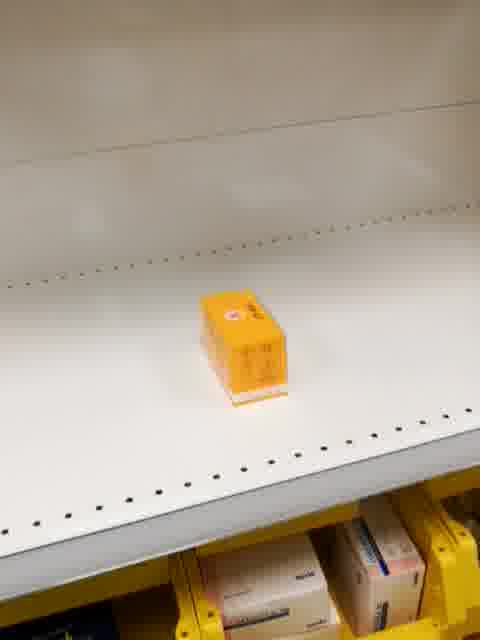jasminetea: (198, 287, 289, 408)
